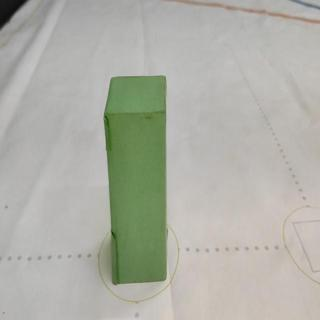greenbox: (101, 74, 170, 283)
